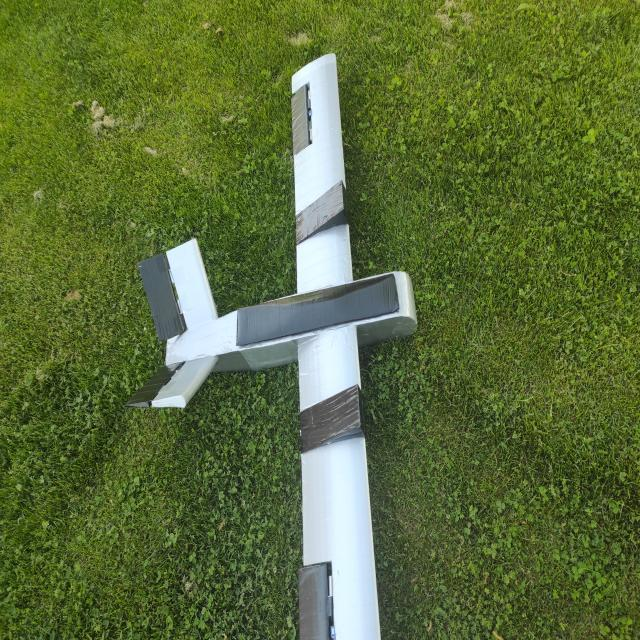UAV: (139, 21, 511, 640)
